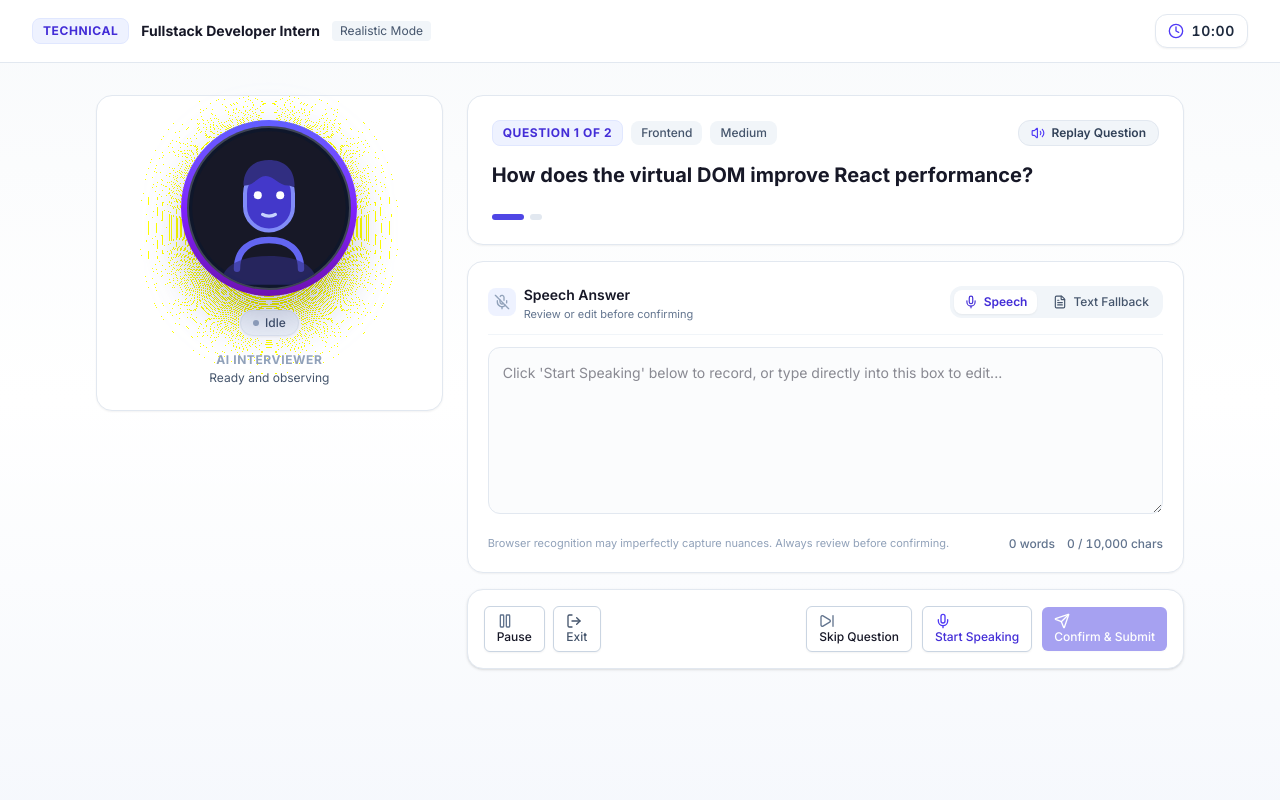
Test: InterviewRoomPage Full Integration › handles skipping a question with deliberate confirmation dialog
The image size is (1280, 800).
// Click Skip Question
Click the button "Skip Question". click: coordinates (859, 628)
box: x1=806 y1=606 x2=912 y2=652
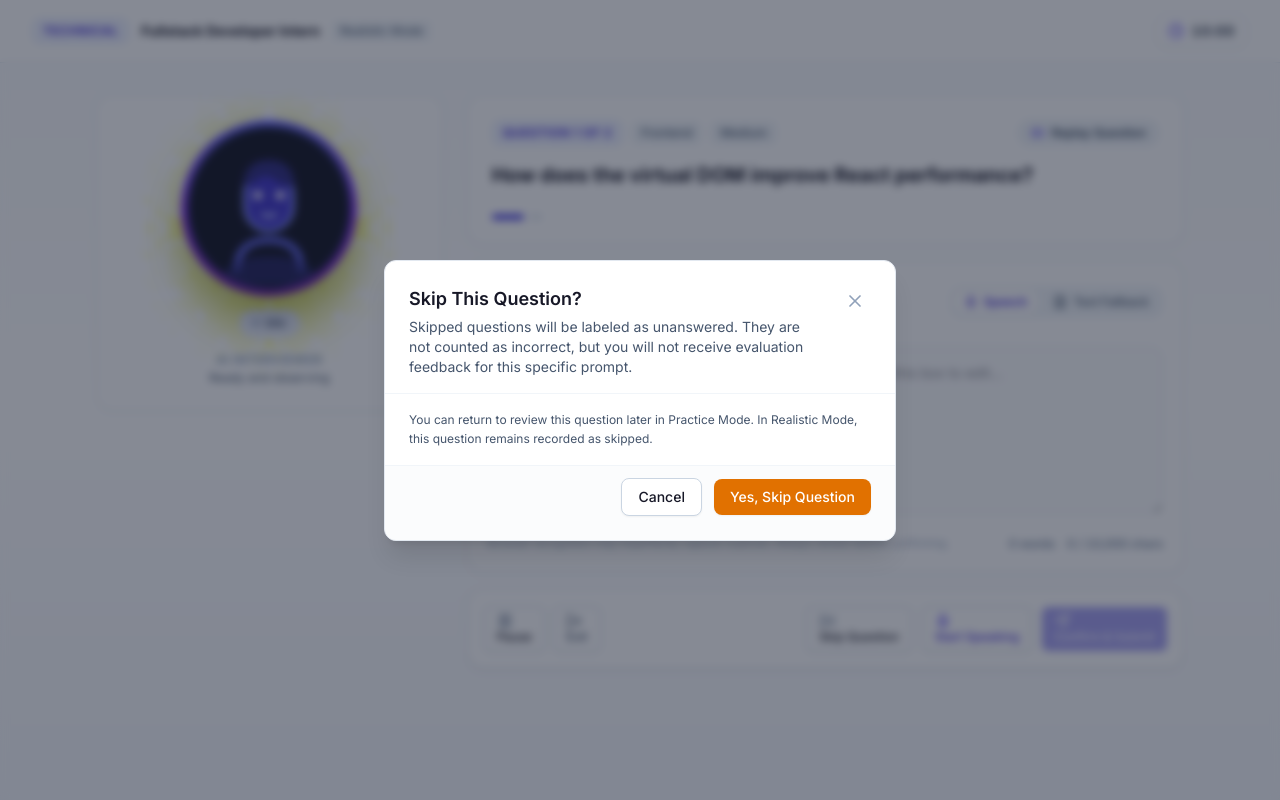
Result: the heading "Skip This Question?" is shown at x1=409 y1=288 x2=582 y2=308
Result: the text "Skipped questions will be labeled as unanswered" is shown at x1=409 y1=318 x2=803 y2=374
// Confirm skip
Click the button "Yes, Skip Question". click: coordinates (792, 496)
box: x1=714 y1=478 x2=871 y2=514
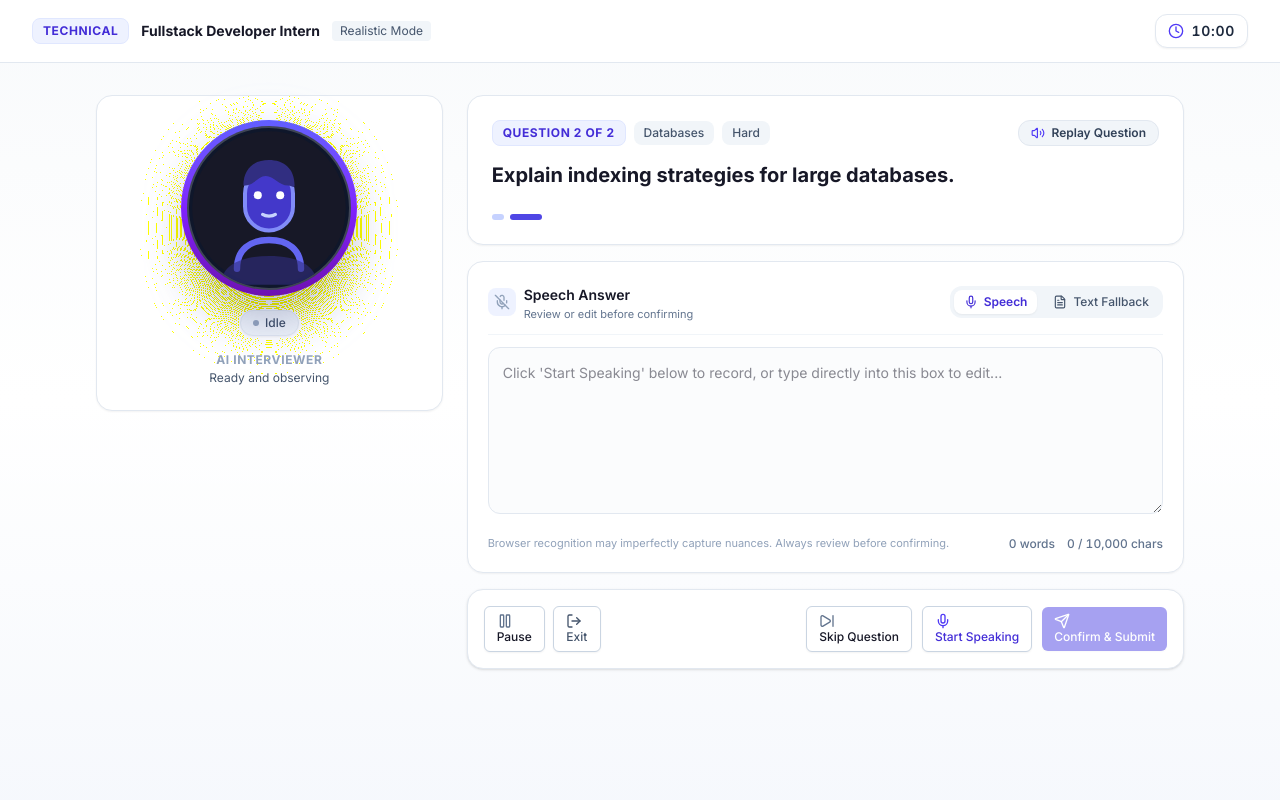
Result: the heading "Explain indexing strategies for large databases." is shown at x1=492 y1=163 x2=955 y2=187
